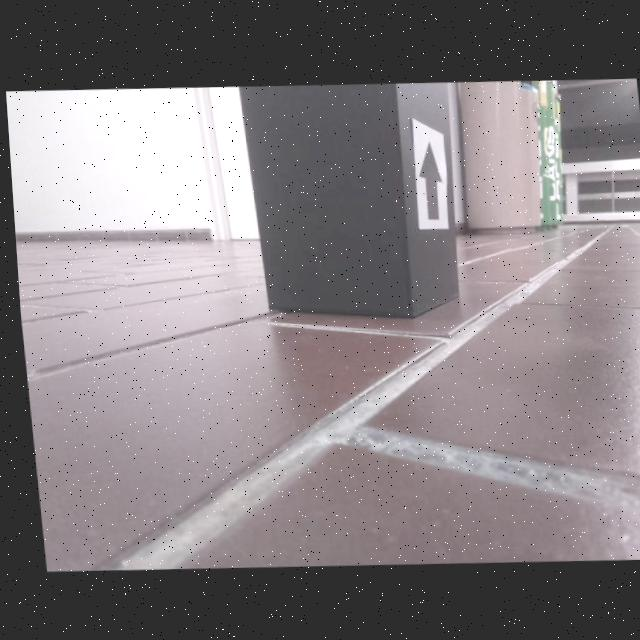UP: (416, 138, 440, 218)
